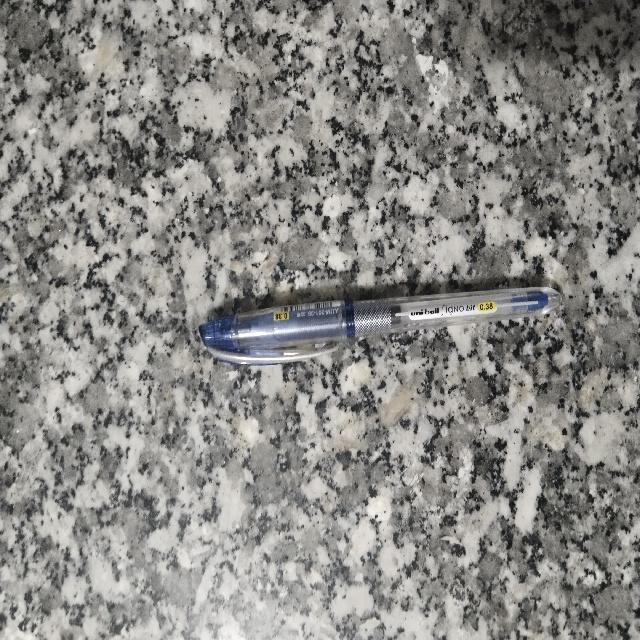pen: (199, 287, 561, 364)
